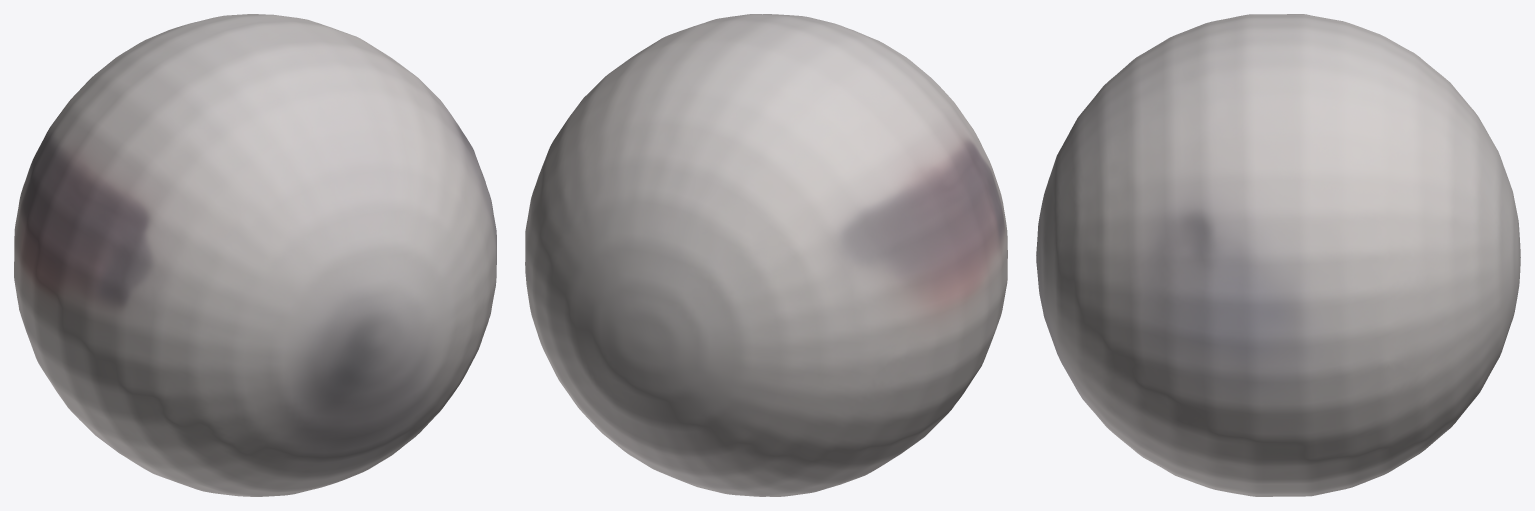
The picture shows the model from 3 angles, left to right: view 1: azimuth 30°, elevation 25°; view 2: azimuth 150°, elevation 25°; view 3: azimuth 270°, elevation 25°; orthographic projection.
Visible parts, largest first — view 1: model; view 2: model; view 3: model.
Boxes of the visible parts, x1,y1,x2,y2 form: model: (14,14,496,496); model: (525,14,1007,496); model: (1036,14,1520,496).
Bounding box in the file's own units: 1.9 × 1.89 × 1.9.
1 material, 1 textured.
